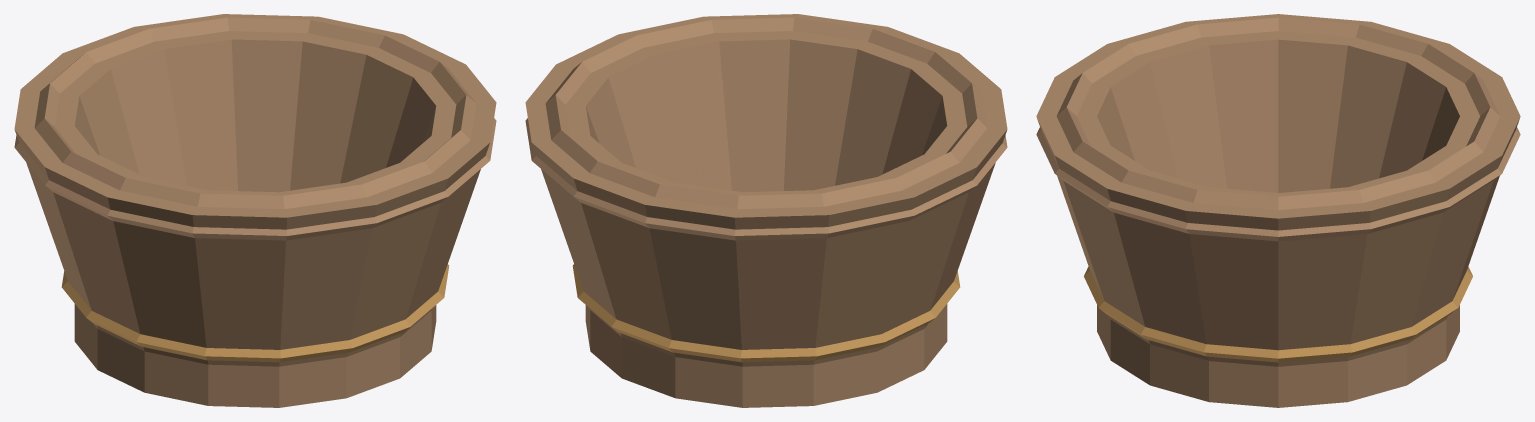
Rendered from mortar.glb.
3 renders of one model, left to right at view 1: azimuth 30°, elevation 25°; view 2: azimuth 150°, elevation 25°; view 3: azimuth 270°, elevation 25°, orthographic.
Visible parts, largest first — view 1: MortarBody, MortarRim, MortarFoot, MortarWearBand; view 2: MortarBody, MortarRim, MortarFoot, MortarWearBand; view 3: MortarBody, MortarRim, MortarFoot, MortarWearBand.
Part boxes in pixels (x1,y1,x2,y2): MortarBody: (14,14,496,366); MortarRim: (14,17,496,240); MortarFoot: (74,304,436,407); MortarWearBand: (61,264,449,362); MortarBody: (525,14,1007,366); MortarRim: (525,17,1007,240); MortarFoot: (585,304,947,407); MortarWearBand: (572,264,960,362); MortarBody: (1036,14,1520,366); MortarRim: (1036,17,1520,241); MortarFoot: (1097,305,1459,407); MortarWearBand: (1084,266,1472,362).
Bounding box in the file's own units: 0.48 × 0.245 × 0.48.
